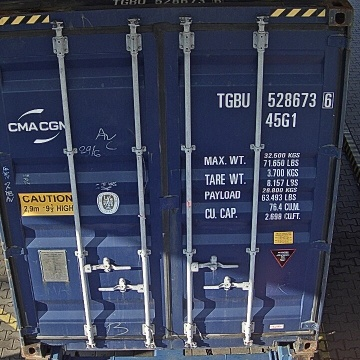serial_id: (217, 92, 333, 107)
